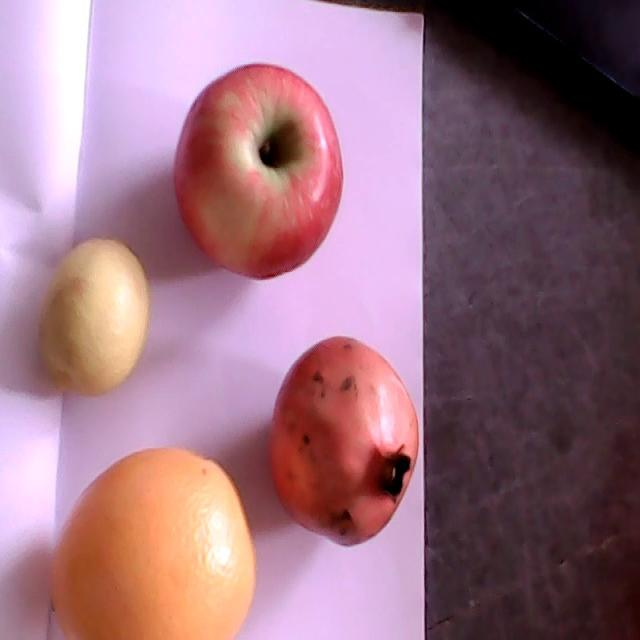apple: (174, 65, 343, 280)
lemon: (37, 233, 150, 399)
orange: (48, 447, 257, 639)
pomegranate: (266, 336, 420, 549)
